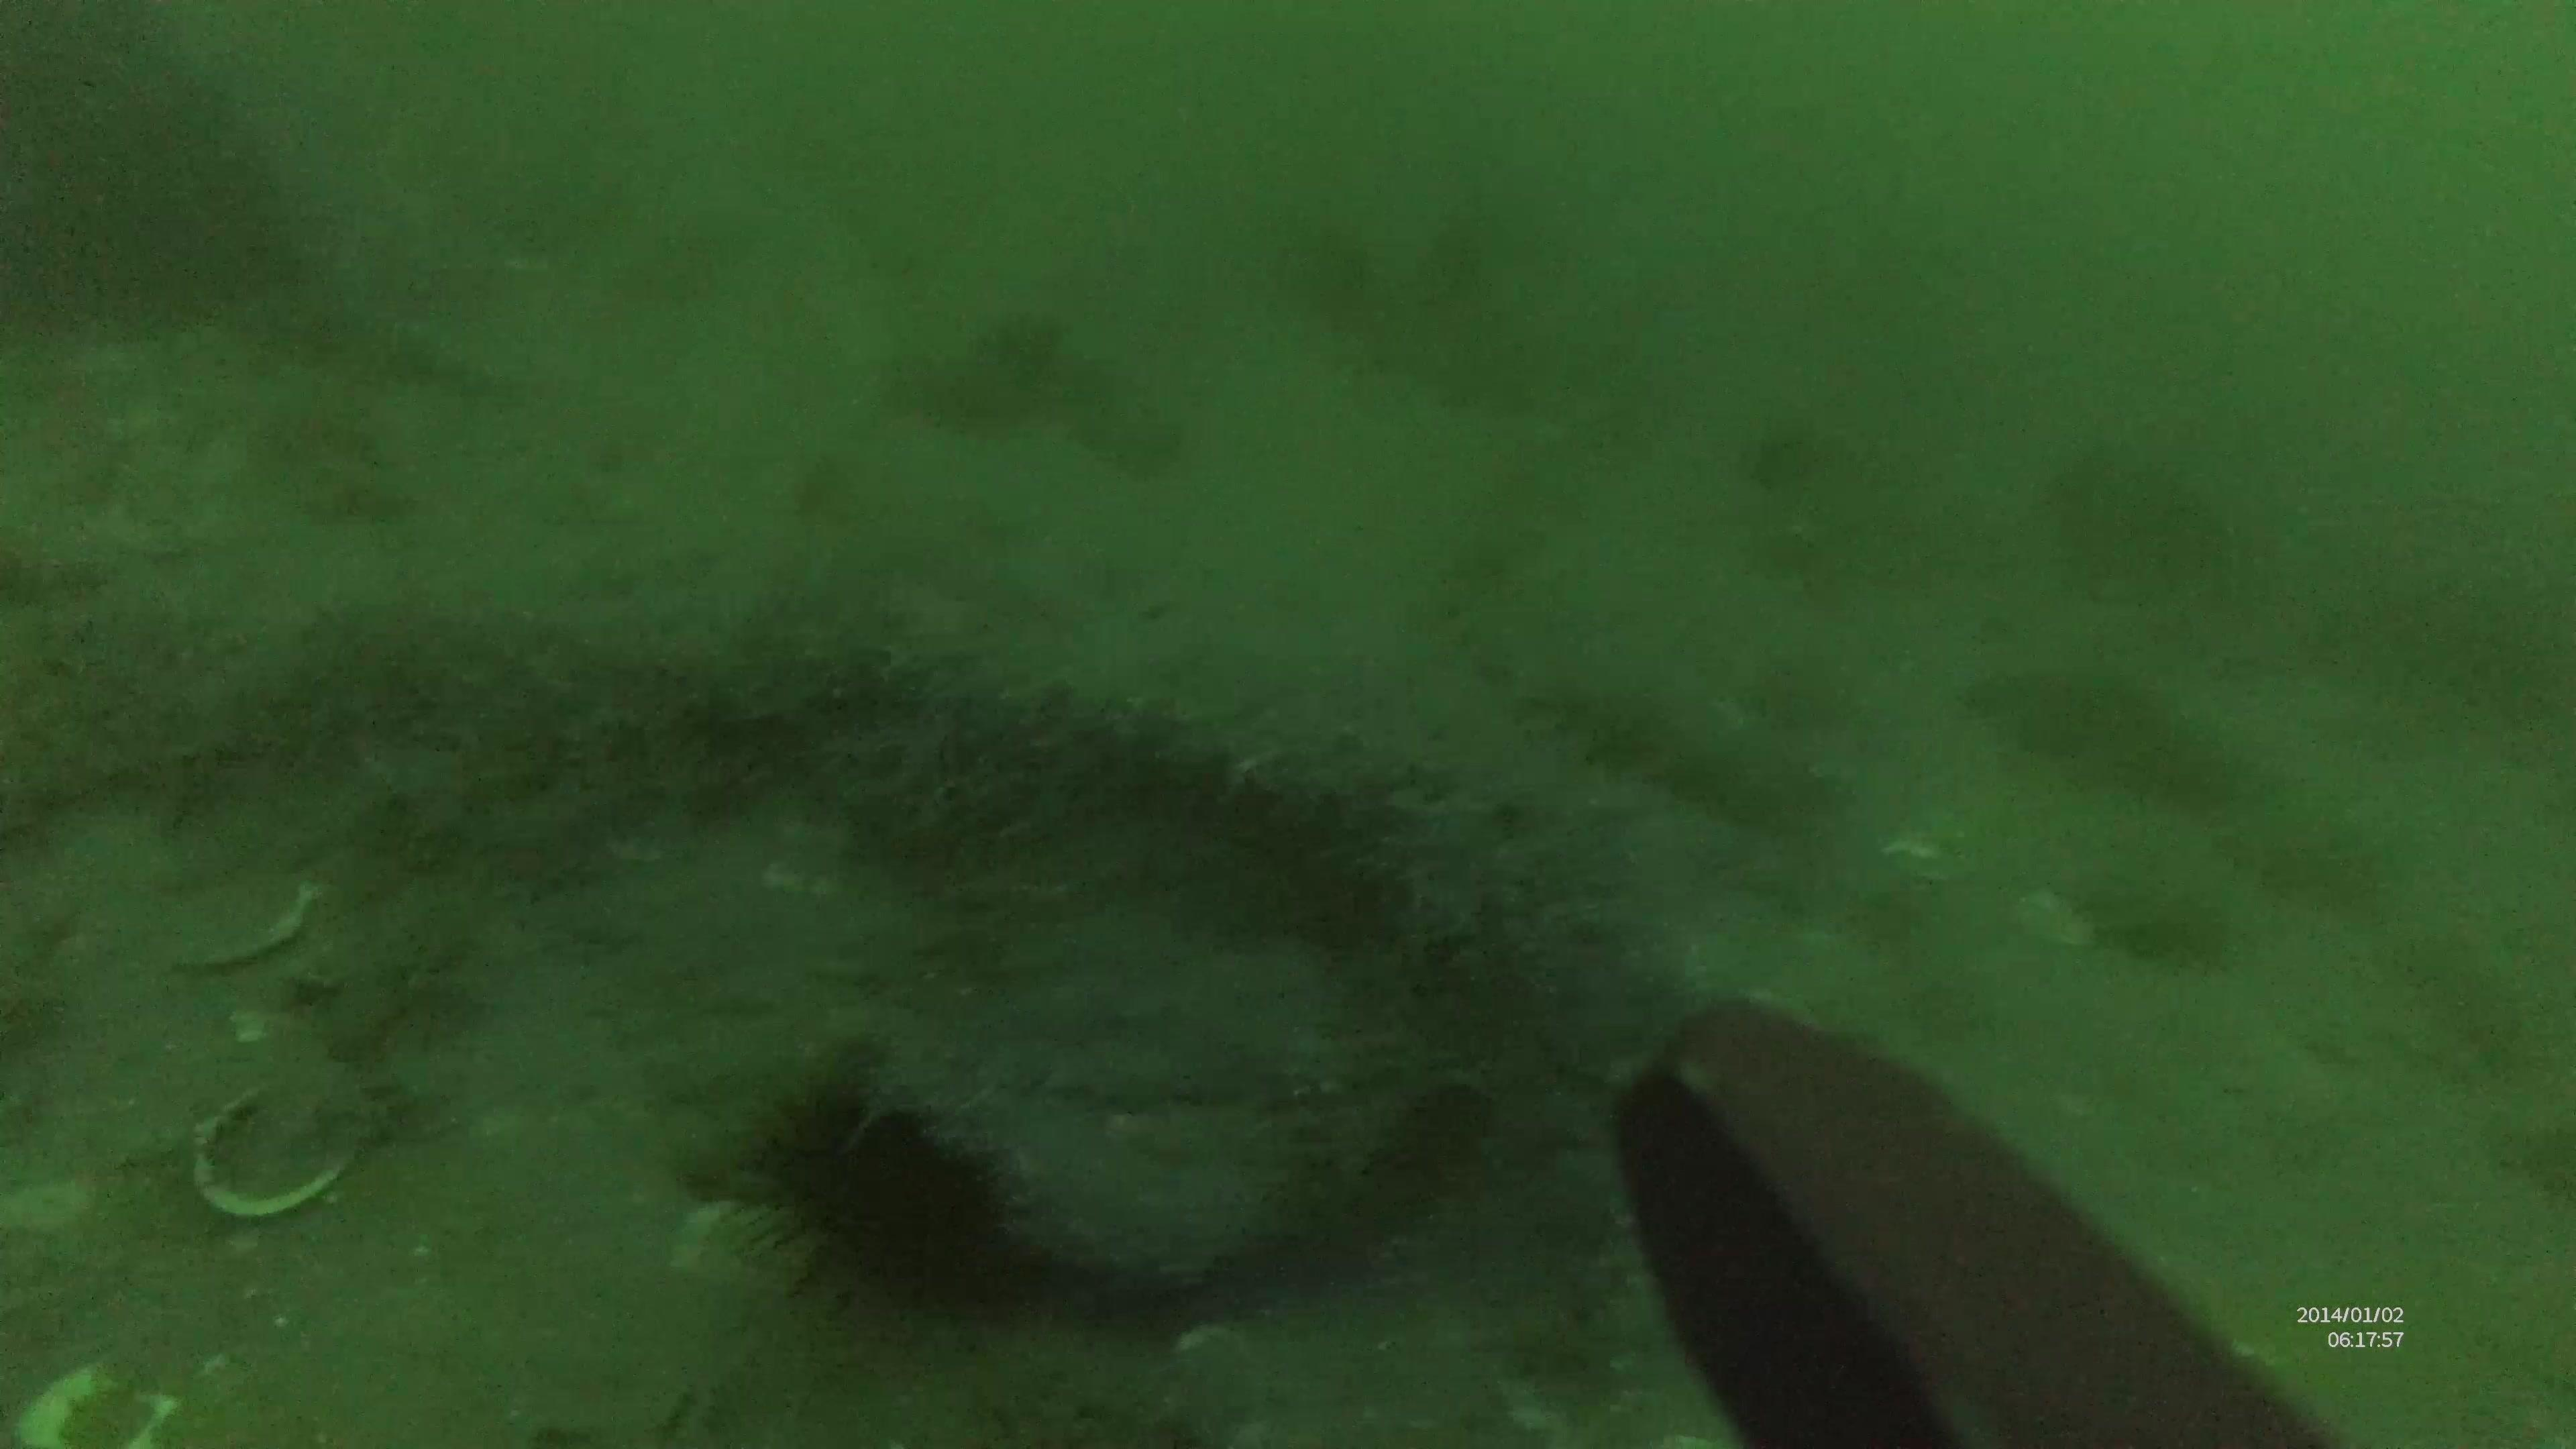echinus: (736, 1104, 1000, 1306)
scallop: (660, 1200, 801, 1297)
